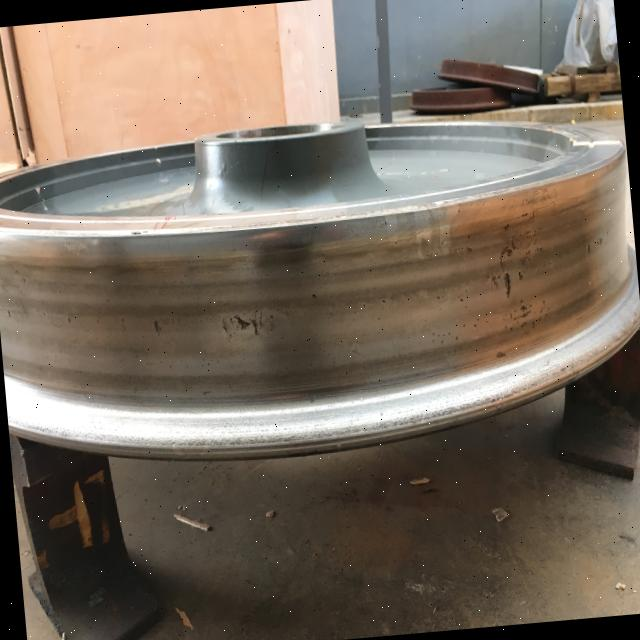Peeling: (233, 312, 256, 333), (501, 269, 515, 297), (155, 322, 166, 339), (520, 304, 533, 317)
